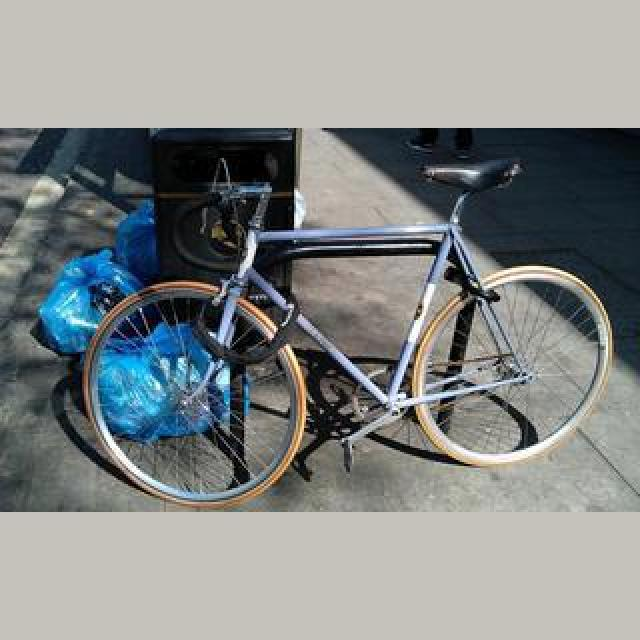Person: (48, 128, 622, 512)
